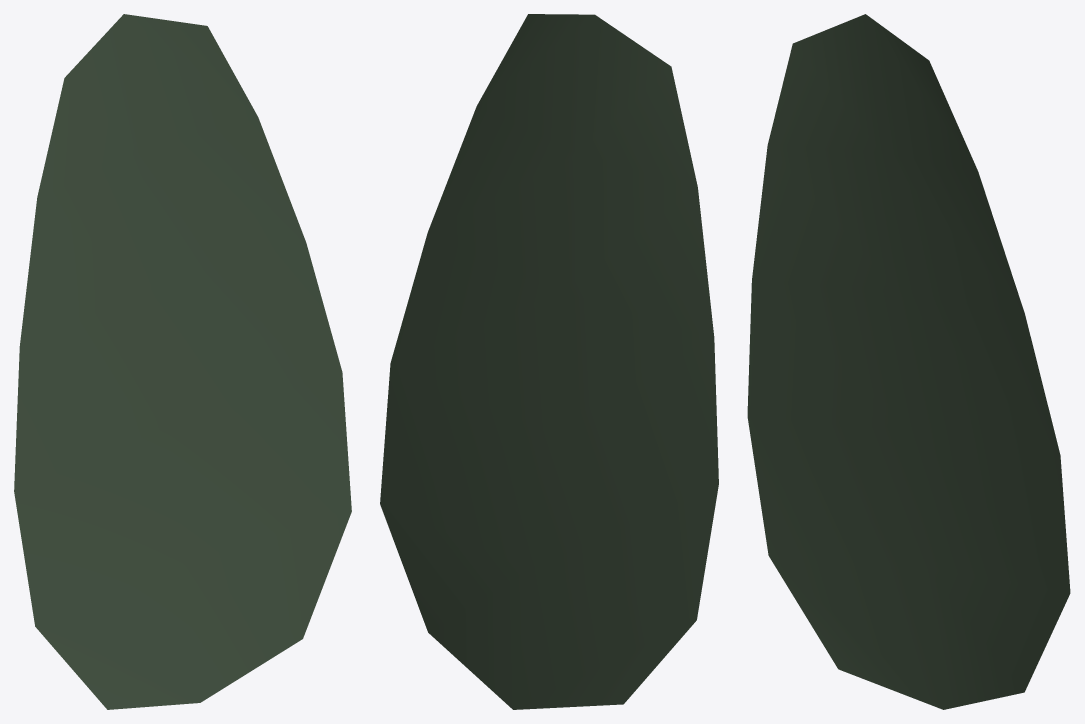
File: duck_feather_flight_tertiary_049.obj
3 views of the same model, side by side, from view 1: azimuth 30°, elevation 25°; view 2: azimuth 150°, elevation 25°; view 3: azimuth 330°, elevation 25° (orthographic). The views are drawn at different scales.
Parts seen in each view (by area): view 1: feather_flight_tertiary_049; view 2: feather_flight_tertiary_049; view 3: feather_flight_tertiary_049.
Part boxes in pixels (left/top/right/bottom): feather_flight_tertiary_049: left=14, top=14, right=351, bottom=709; feather_flight_tertiary_049: left=380, top=14, right=718, bottom=709; feather_flight_tertiary_049: left=747, top=14, right=1070, bottom=709.
Size of the model in its own units: 0.0143 by 0.0287 by 0.000814.
